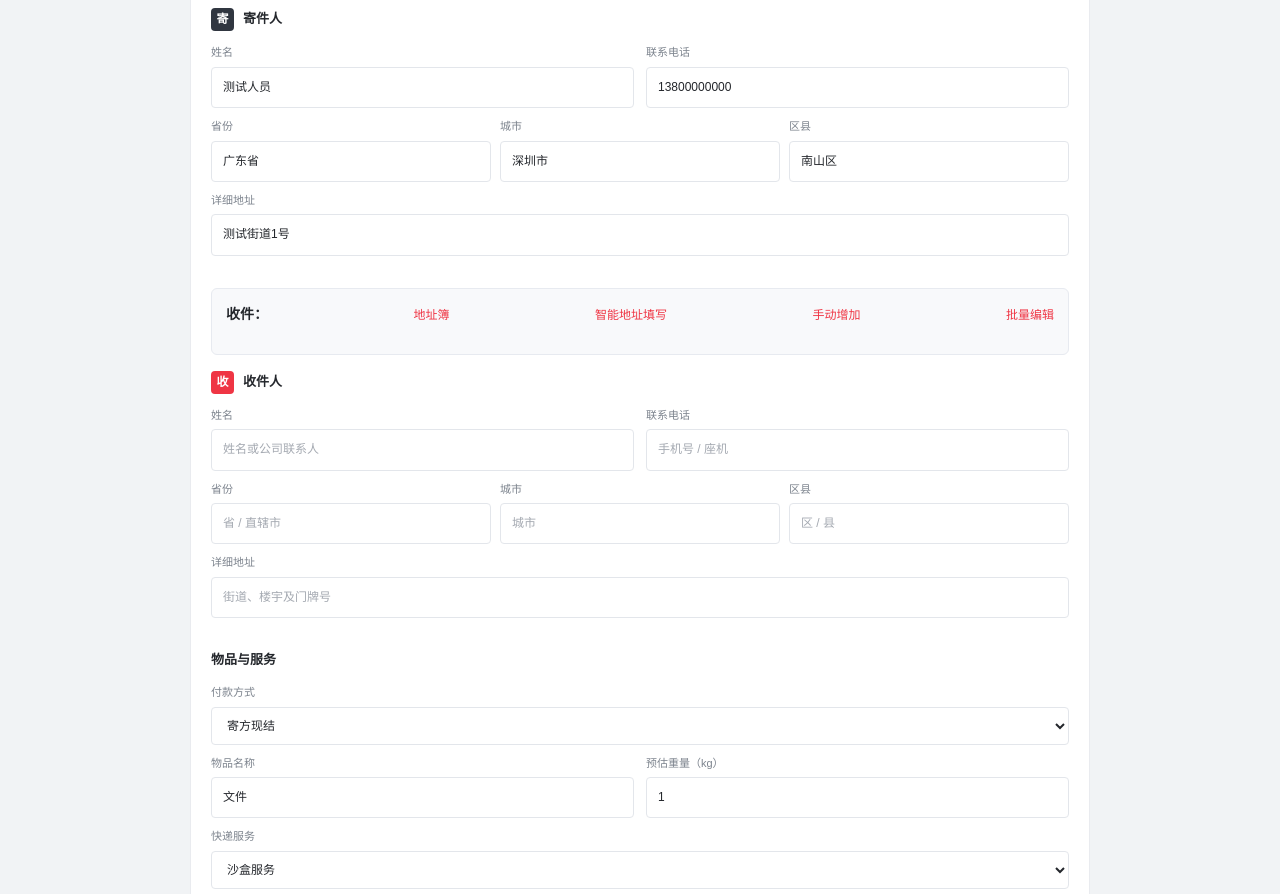
Test: one screen shipping interaction › opens tracking immediately and can return while loading without losing the draft or reopening on a late response
(page scrolled)
Type "草稿联系人" into the field named "收件人姓名" at (422, 450), box [211,429,634,471]
(page scrolled)
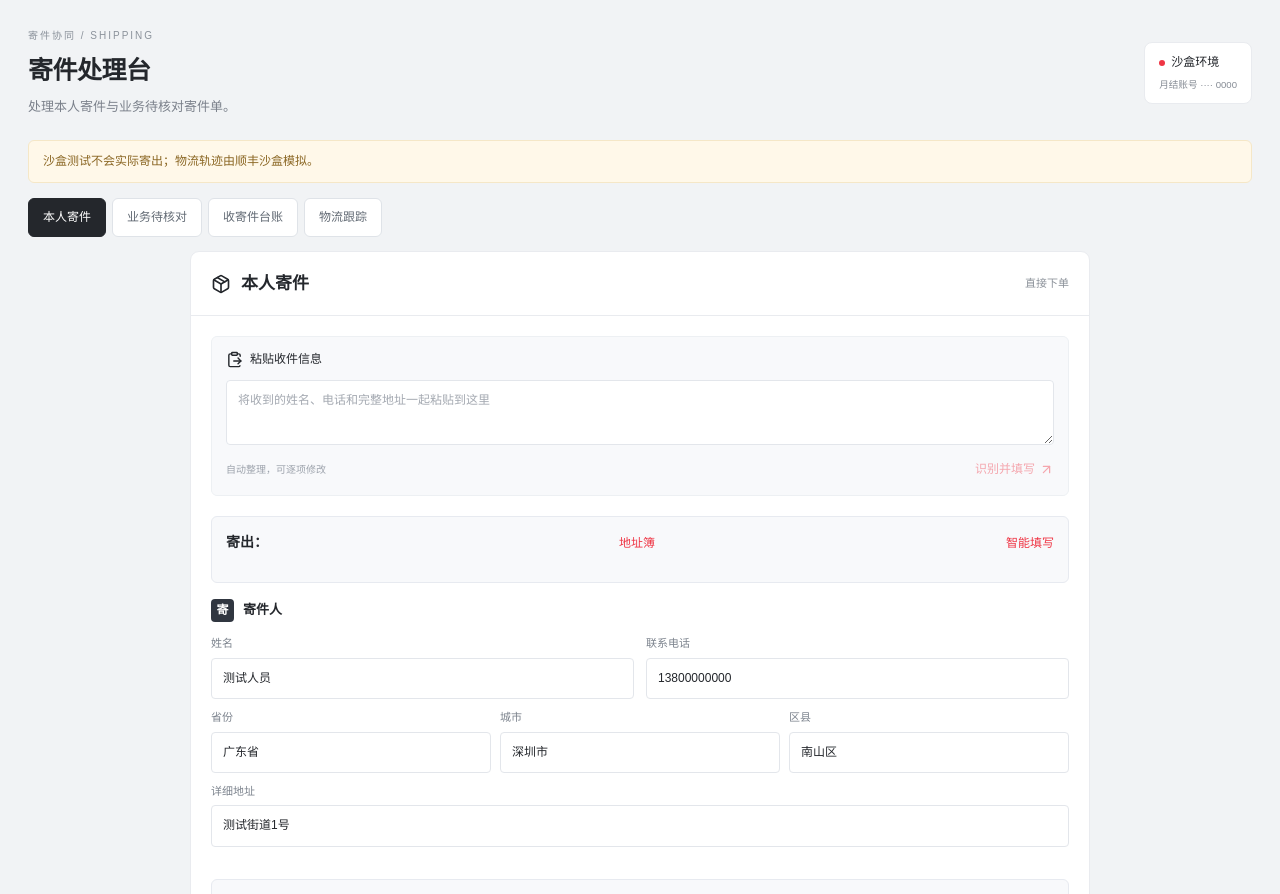
Click the button "物流跟踪" at (343, 218), box [304,198,382,237]
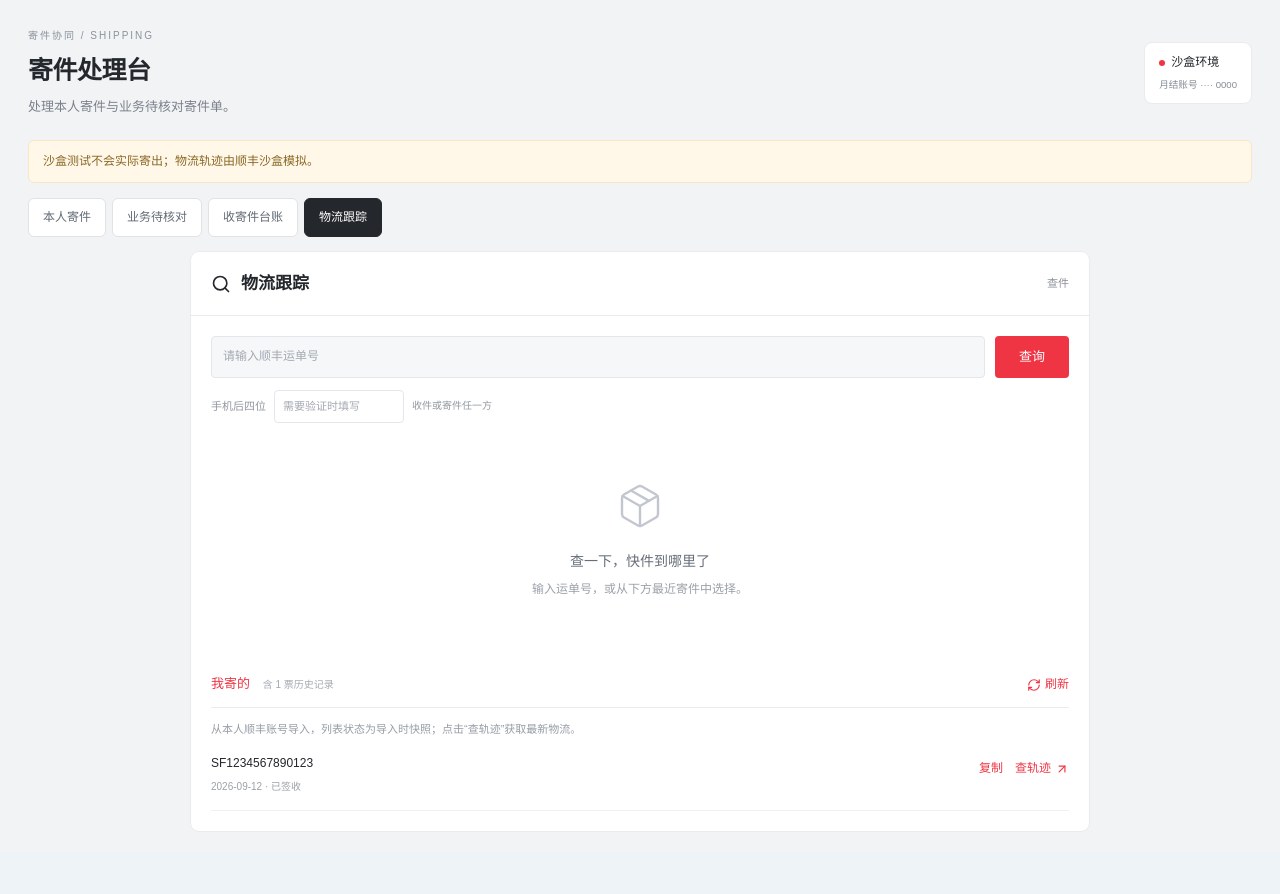
Click the button "查轨迹" at (1042, 769), box [1015,756,1069,781]
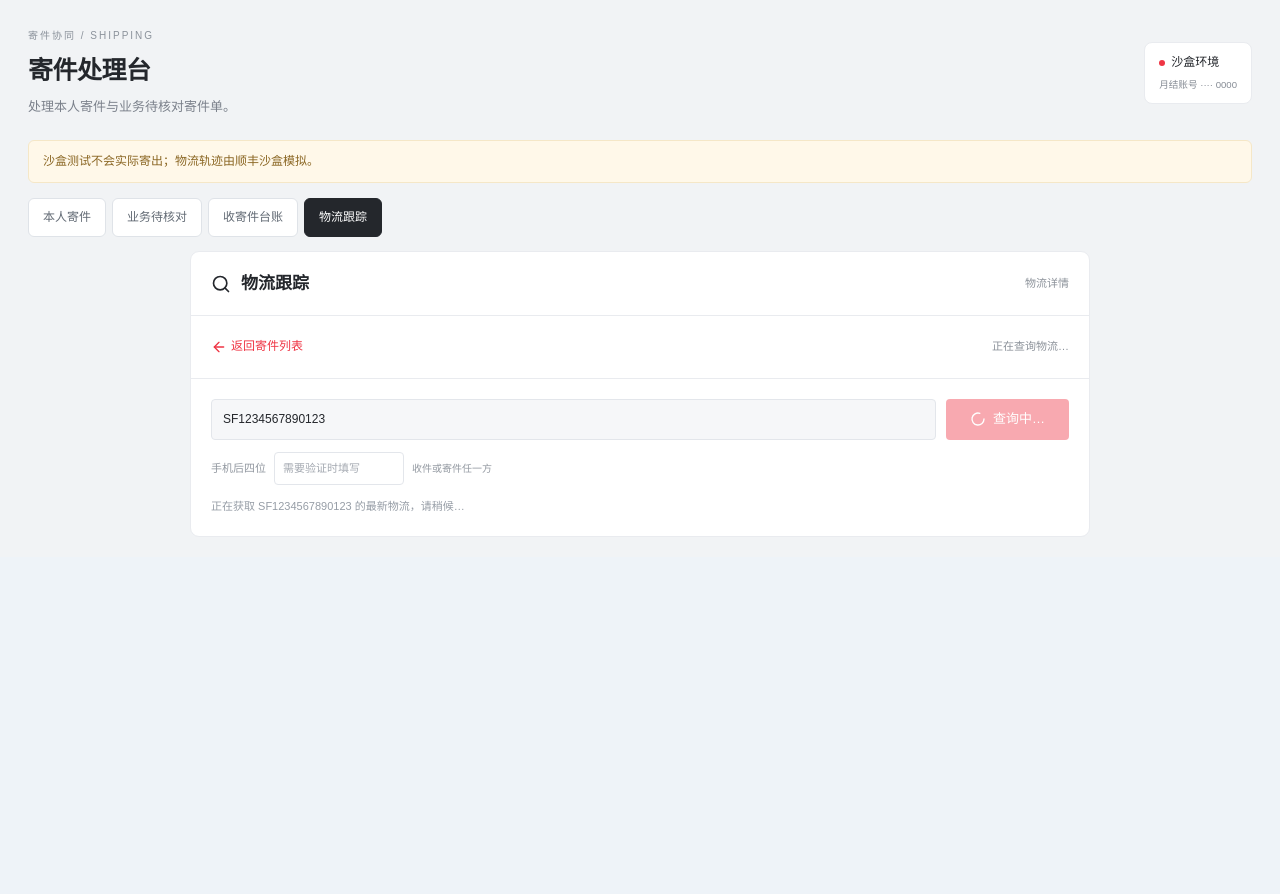
Expected: the text "正在查询物流…" is shown, [992,338,1069,356]
Expected: the element "本人历史寄件" is gone
Click the button "返回寄件列表" at (257, 347), box [211,334,303,360]
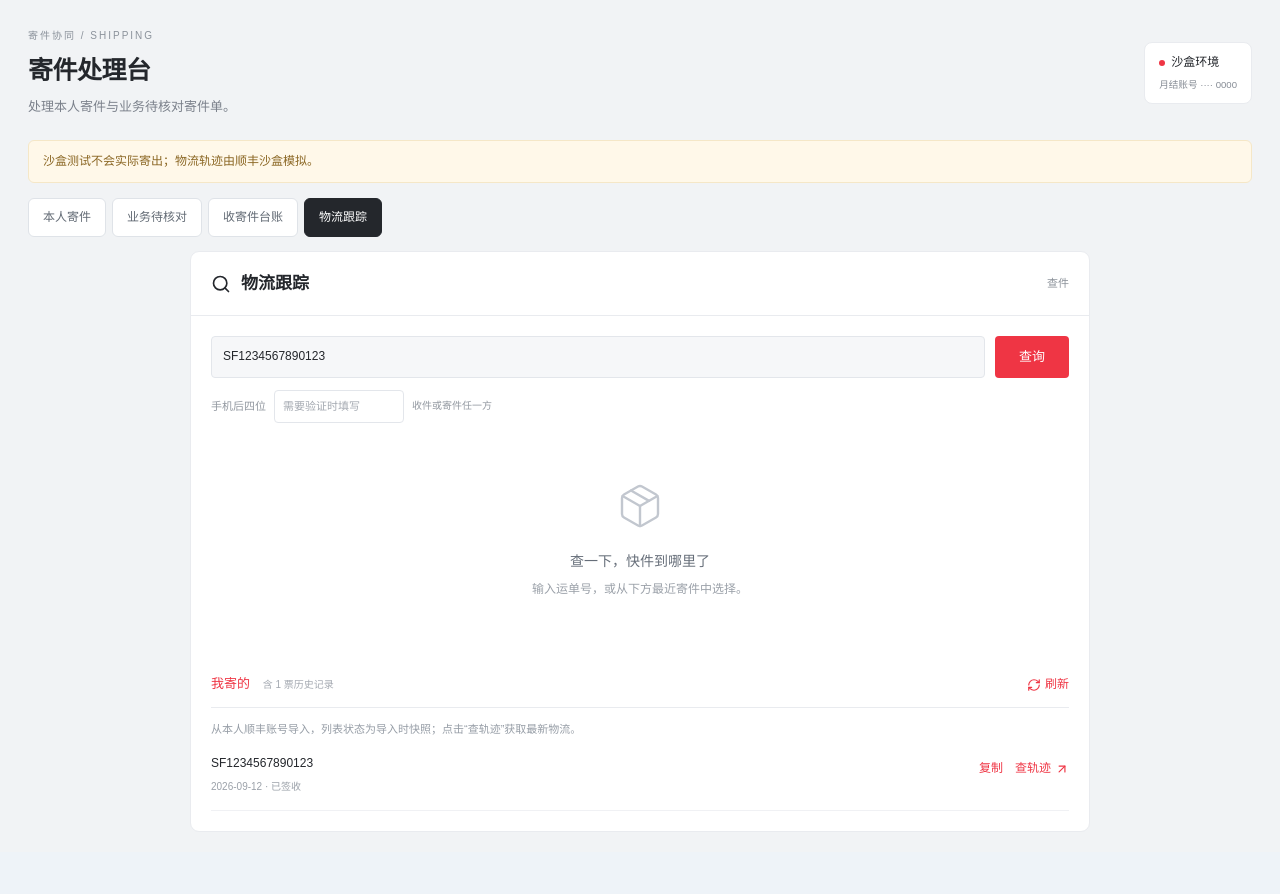
Expected: the element named "本人历史寄件" is shown, [211,720,1069,811]
Click the button "本人寄件" at (67, 218), box [28,198,106,237]
(page scrolled)
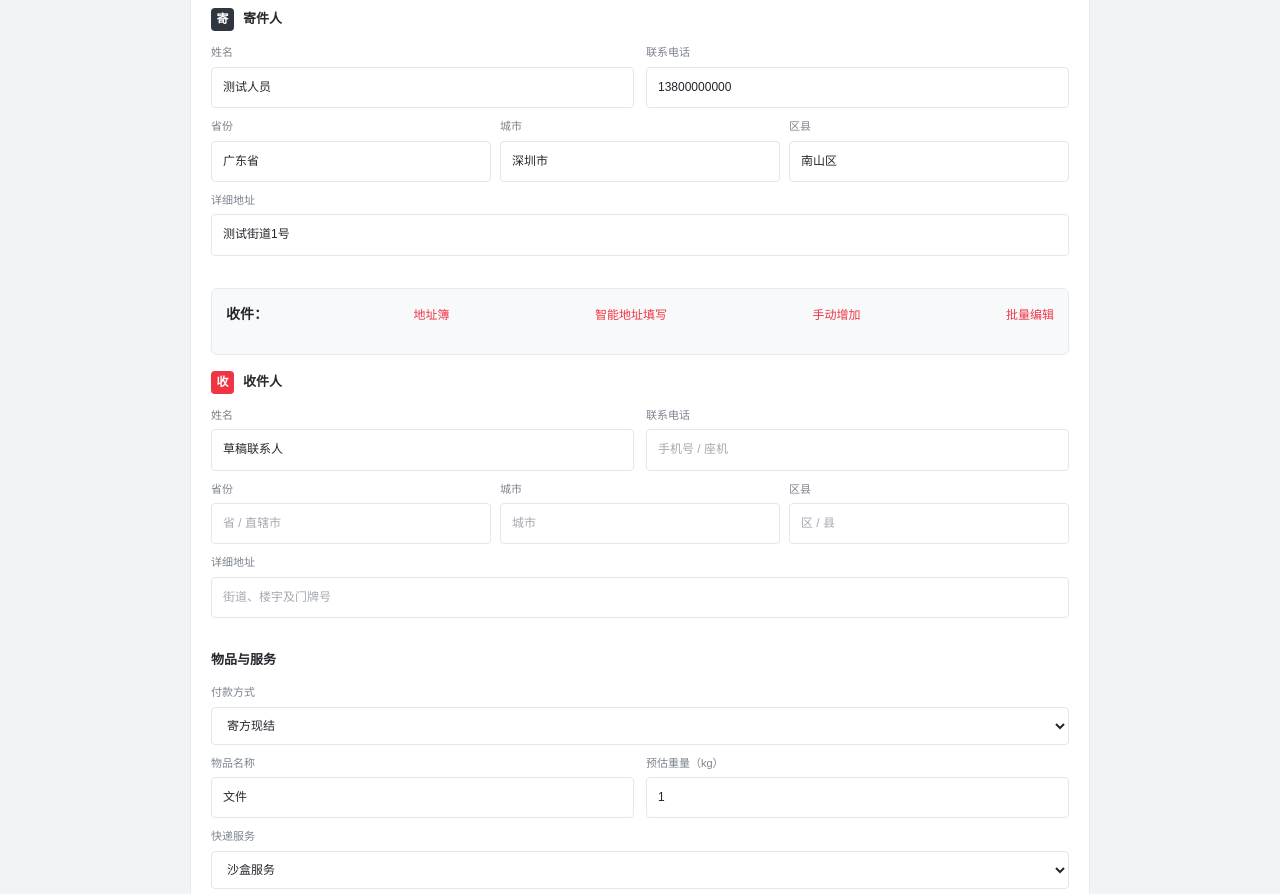
Expected: the field named "收件人姓名" holds "草稿联系人", [211,429,634,471]
